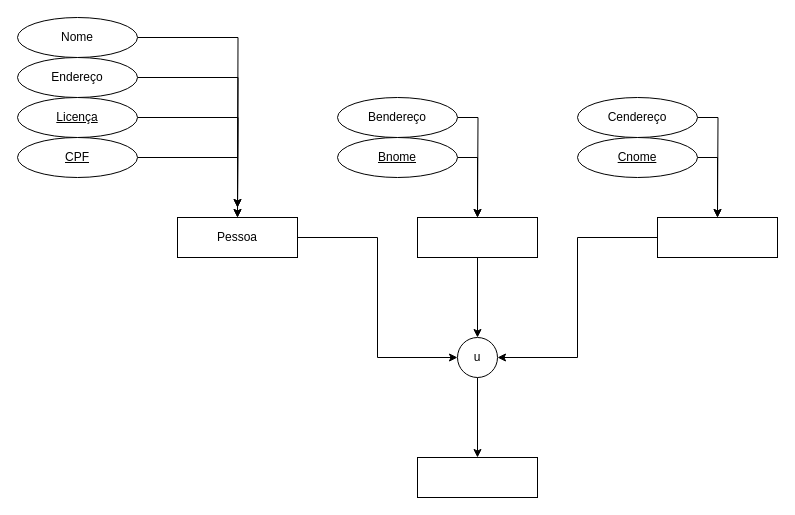
This 795x515 diagram has some shape labels left out. The centre of each missing label's shape, as x and y in pixels:
Banco: the point at 477,237
Company: the point at 717,237
Owner: the point at 477,477
